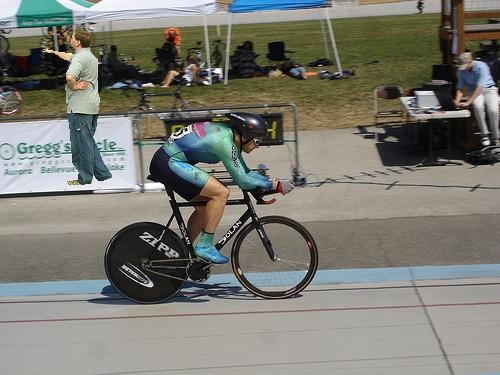tampered: (42, 28, 112, 185)
